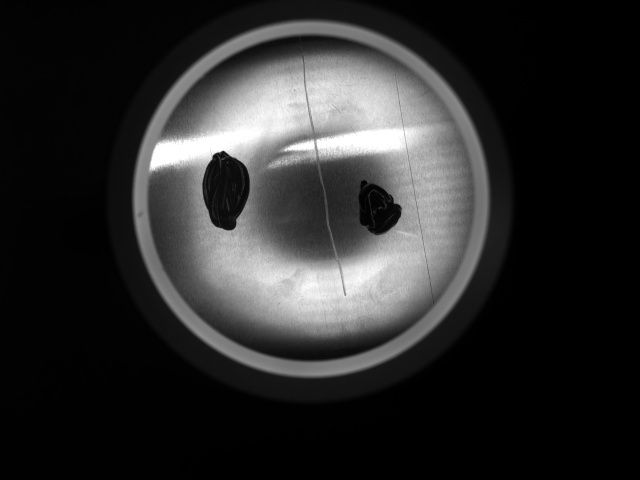ca_shang: (296, 40, 348, 300), (392, 70, 431, 306)
zang_wu: (196, 148, 257, 239), (355, 178, 404, 240)
